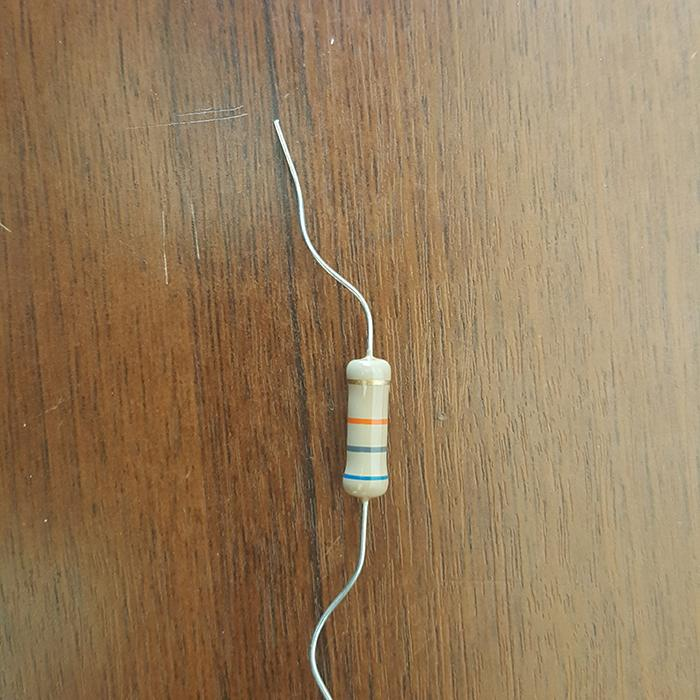resistor: (342, 359, 391, 497)
